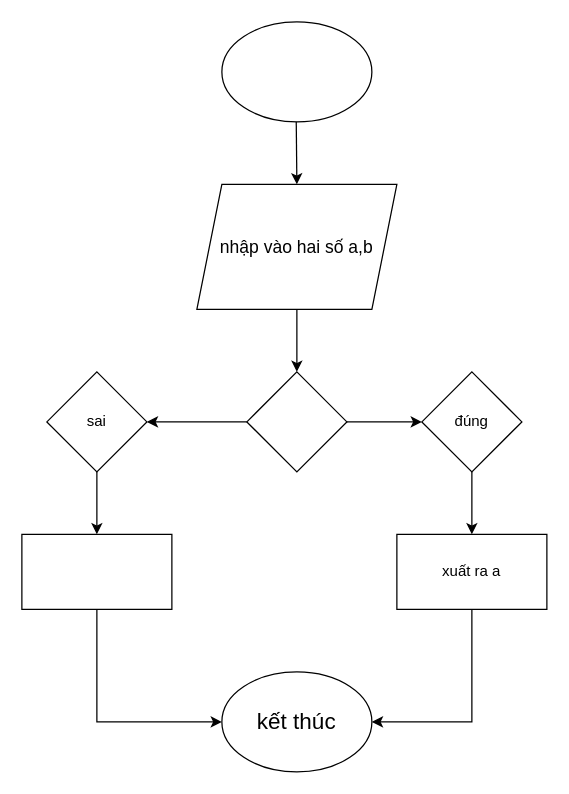
Some shapes in this 569 by 794 pixel diagram are drawn without their labels. The shapes that lost their labels are listed below. From the top down, each one's centre as x and y in pixels, then its label:
At pixel 296 71: "bắt đầu".
At pixel 296 421: "a<b".
At pixel 96 571: "xuất ra b".
